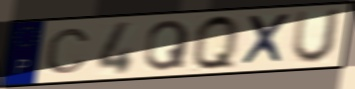4: (95, 20, 135, 76)
C: (43, 27, 92, 76)
Q: (192, 13, 240, 73), (143, 18, 192, 73)
U: (288, 7, 345, 66)
X: (239, 11, 293, 67)
